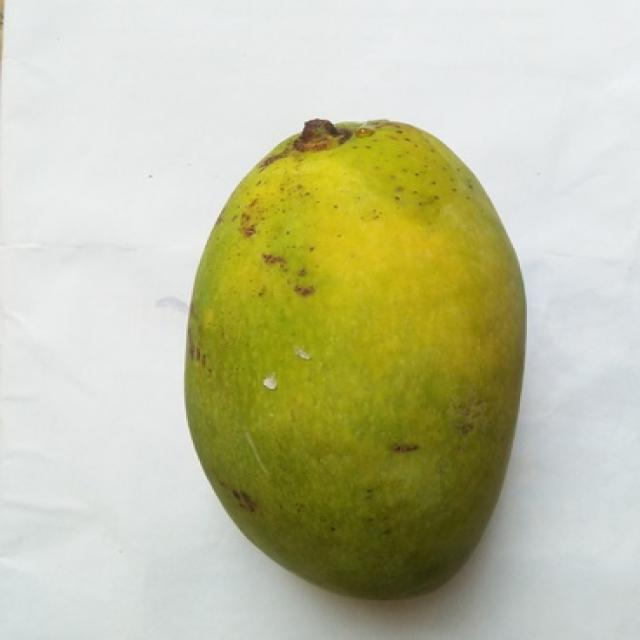Mango: (184, 121, 523, 597)
